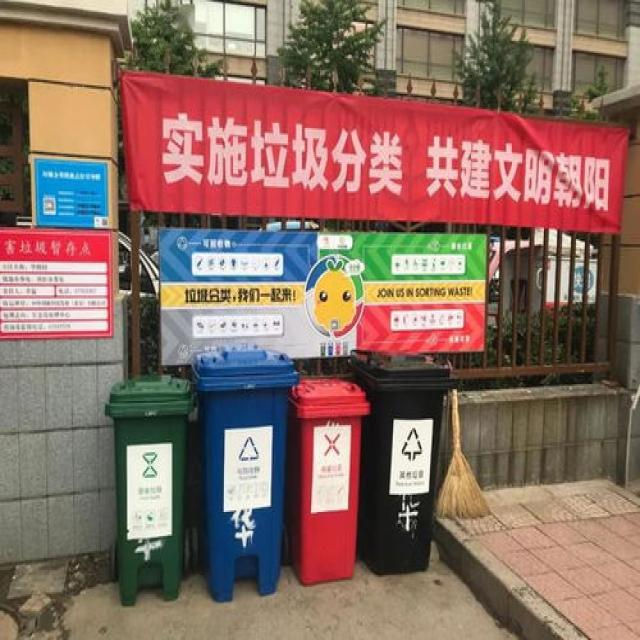garbage_bin: (190, 348, 298, 601), (348, 348, 452, 572), (104, 374, 190, 604), (285, 376, 370, 584)
